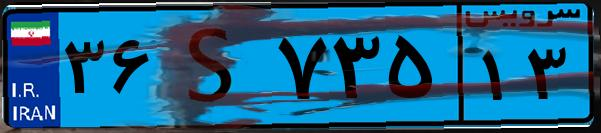1: (475, 38, 525, 113)
3: (330, 28, 385, 110), (57, 26, 110, 100), (525, 38, 570, 115)
5: (385, 28, 445, 110)
6: (110, 28, 158, 98)
7: (270, 28, 330, 110)
S: (158, 12, 270, 120)
